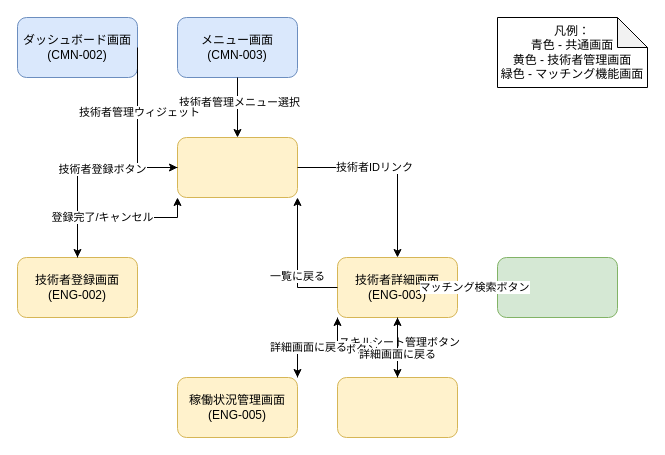
This 665x455 diagram has some shape labels left out. Each missing label, with the centre of its shape:
スキルシート管理画面 (ENG-004): pixel 397 407
マッチング検索画面 (MTH-001): pixel 557 287
技術者一覧画面 (ENG-001): pixel 237 167
